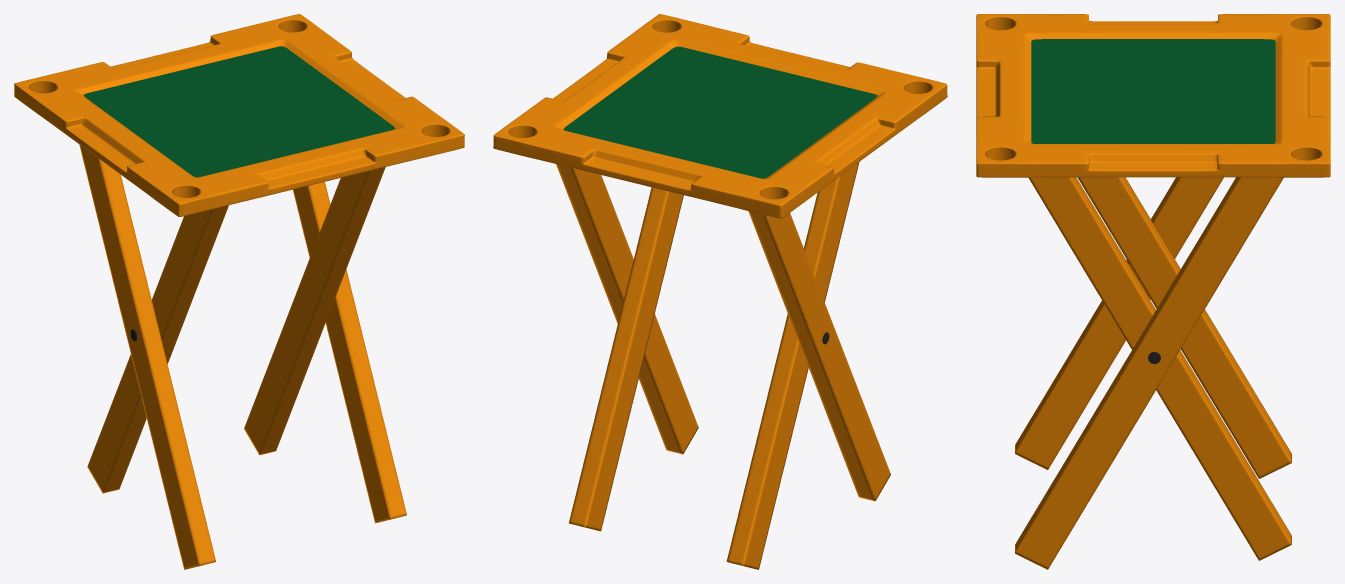
3 views of the same model, side by side, from view 1: azimuth 30°, elevation 25°; view 2: azimuth 150°, elevation 25°; view 3: azimuth 270°, elevation 25° (orthographic). The views are drawn at different scales.
Parts seen in each view (by area): view 1: pata003, pata-mesa-uved, tope-mesa-domino\; view 2: pata003, pata-mesa-uved, tope-mesa-domino\; view 3: pata003, pata-mesa-uved, tope-mesa-domino\.
Boxes of the visible parts, left/top/right/bottom form: pata003: left=79, top=144, right=406, bottom=569; pata-mesa-uved: left=14, top=14, right=464, bottom=216; tope-mesa-domino\: left=83, top=46, right=395, bottom=177; pata003: left=556, top=162, right=890, bottom=569; pata-mesa-uved: left=493, top=14, right=947, bottom=218; tope-mesa-domino\: left=563, top=46, right=877, bottom=178; pata003: left=1015, top=177, right=1291, bottom=569; pata-mesa-uved: left=976, top=14, right=1330, bottom=177; tope-mesa-domino\: left=1031, top=39, right=1275, bottom=143.
Bounding box in the file's own units: 1.5 × 2 × 1.5.
